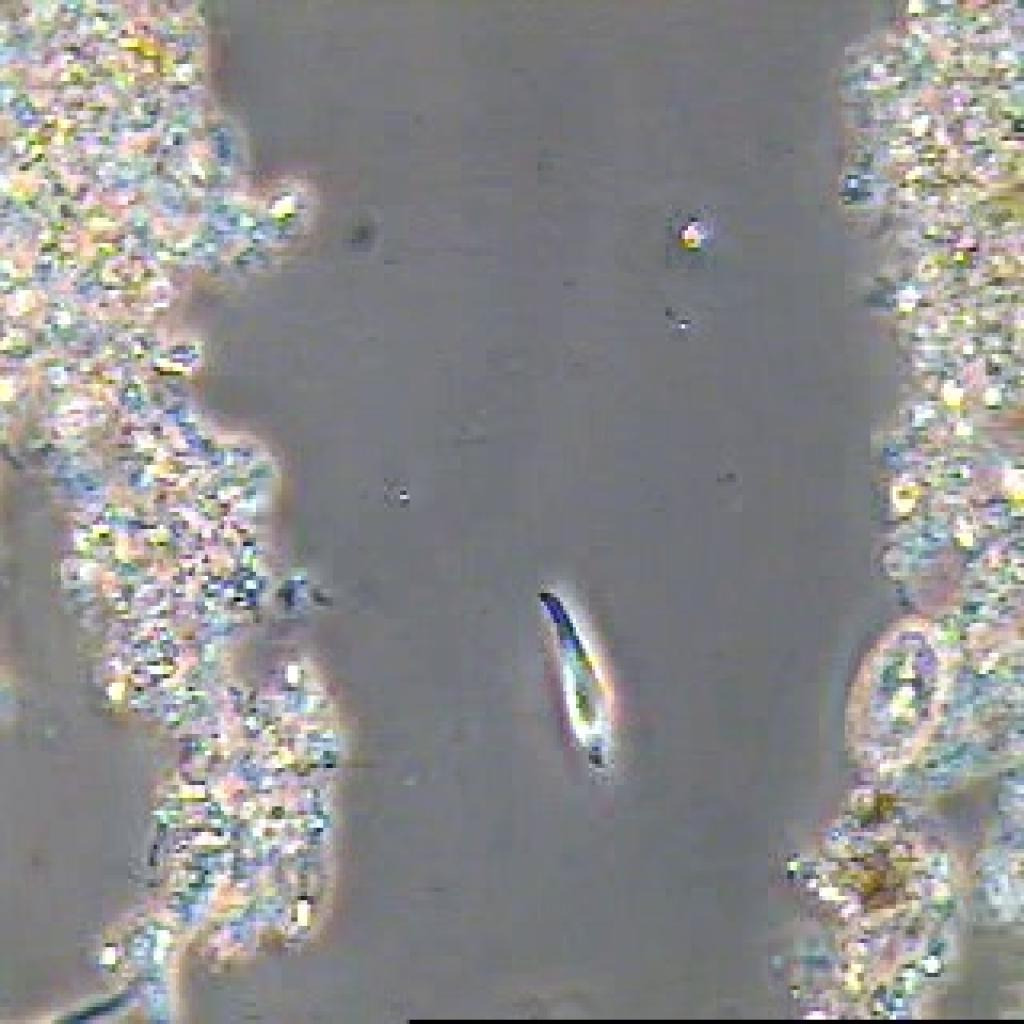Pristina: (520, 574, 648, 779)
